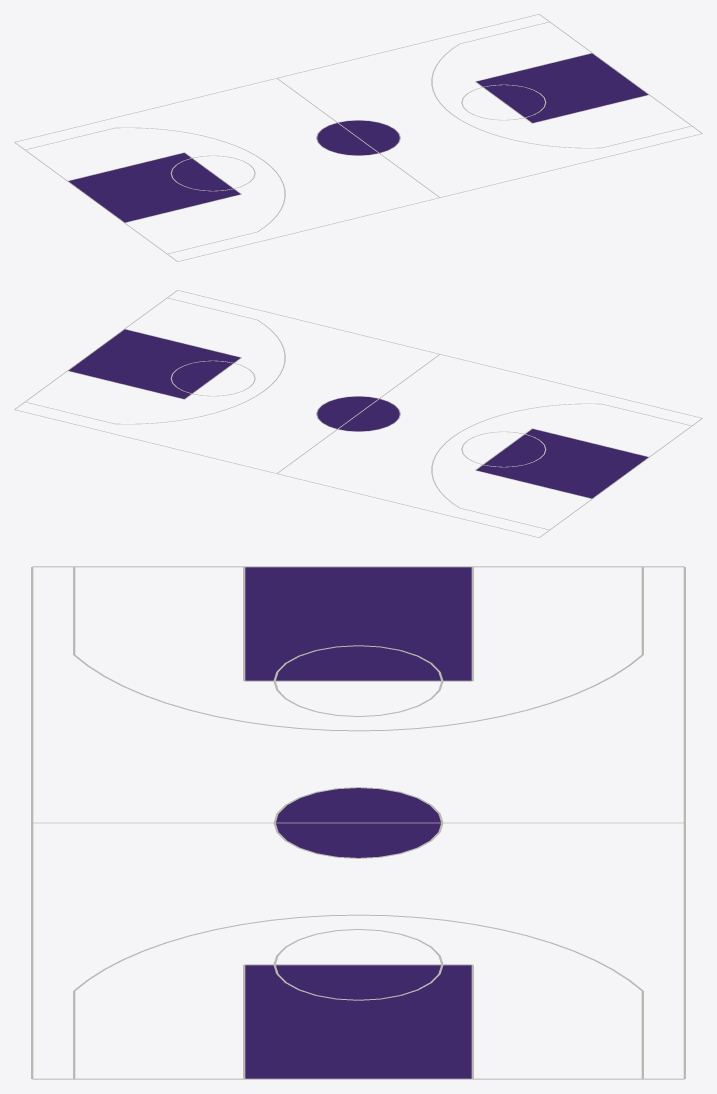
The model's file is sport.court_lines.purple.glb.
The picture shows the model from 3 angles, top to bottom: view 1: azimuth 30°, elevation 25°; view 2: azimuth 150°, elevation 25°; view 3: azimuth 270°, elevation 25°; orthographic projection. The views are drawn at different scales.
Parts seen in each view (by area): view 1: sport_court_lines_purple; view 2: sport_court_lines_purple; view 3: sport_court_lines_purple.
Part boxes in pixels (x1,y1,x2,y2): sport_court_lines_purple: (14,14,702,261); sport_court_lines_purple: (14,290,702,537); sport_court_lines_purple: (31,566,685,1079).
Size of what is drawn, in the model's own units: 26.05 by 0.0025 by 14.05.
